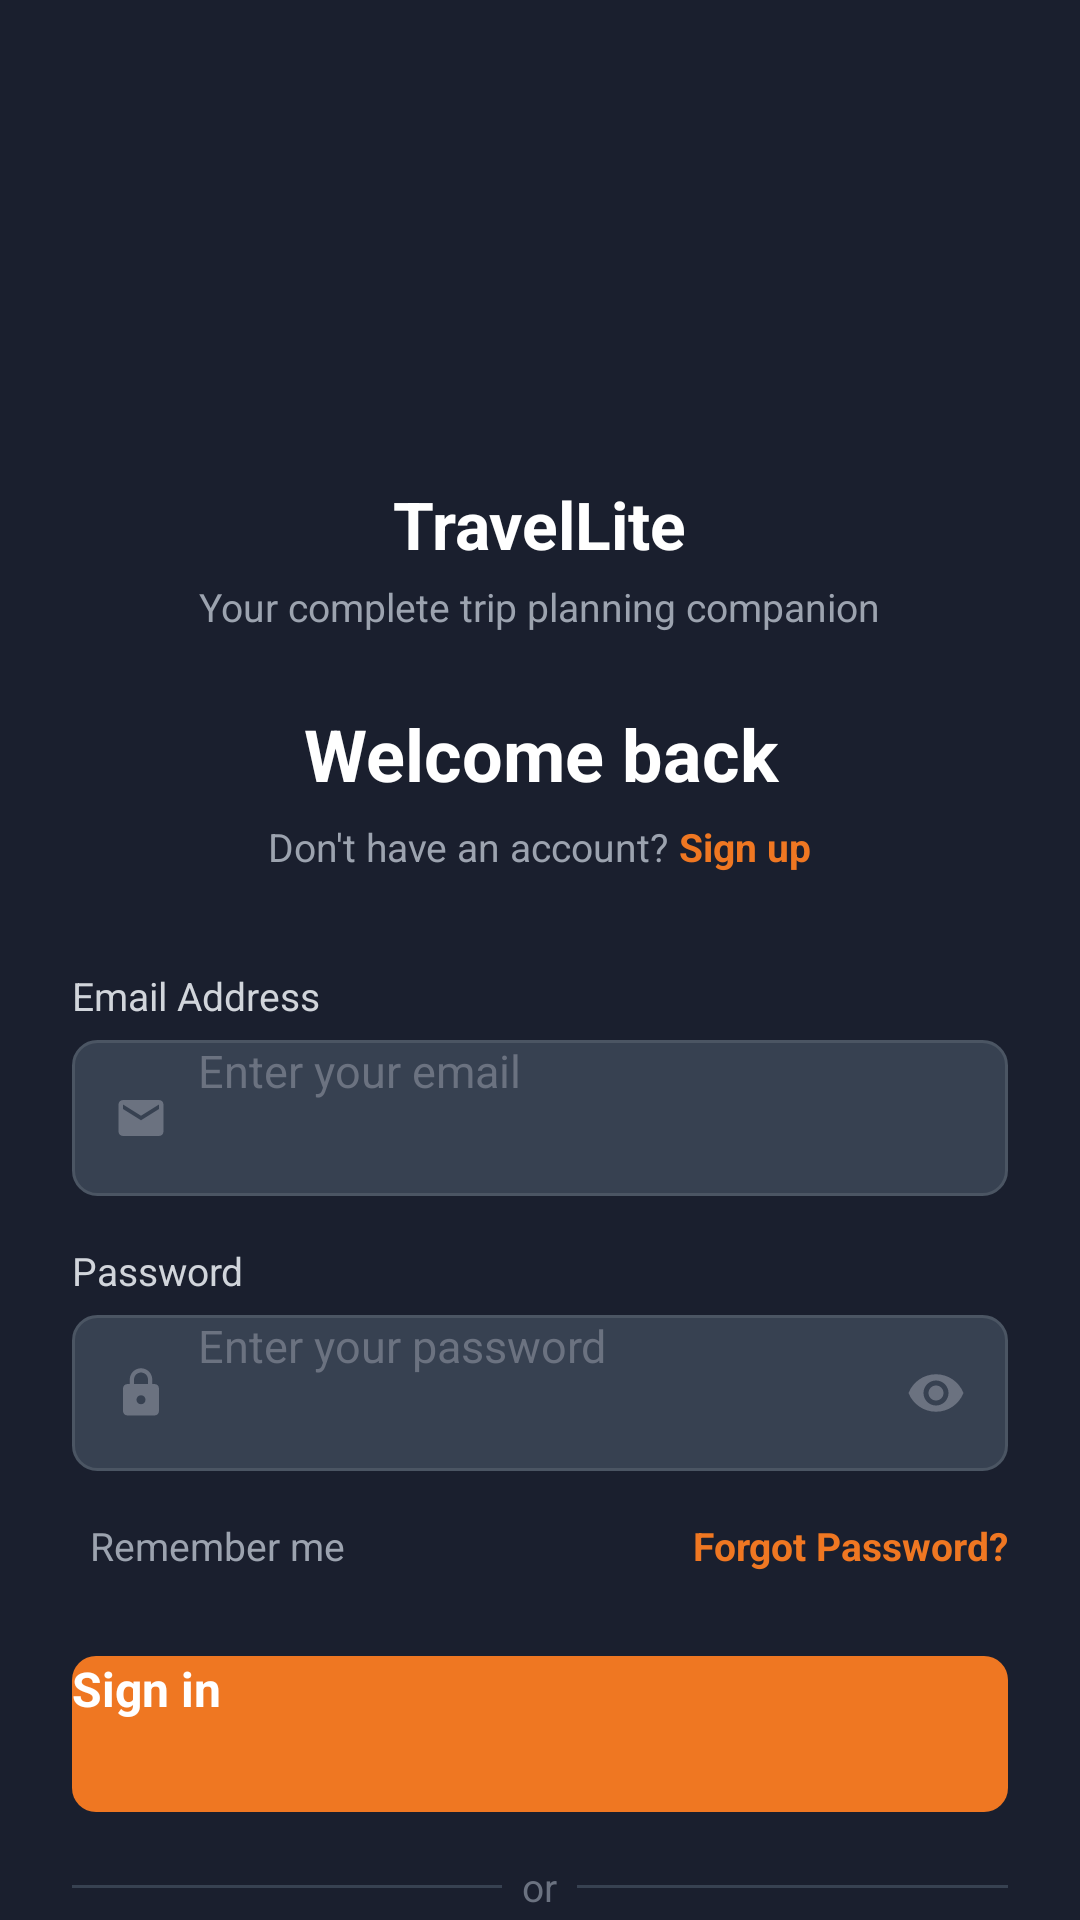

Screen size 1080x1920. Icon name, then its box in pixels as [x1,y1,x2,y2]:
eye: [909,1374,963,1412]
lock: [123,1368,159,1416]
